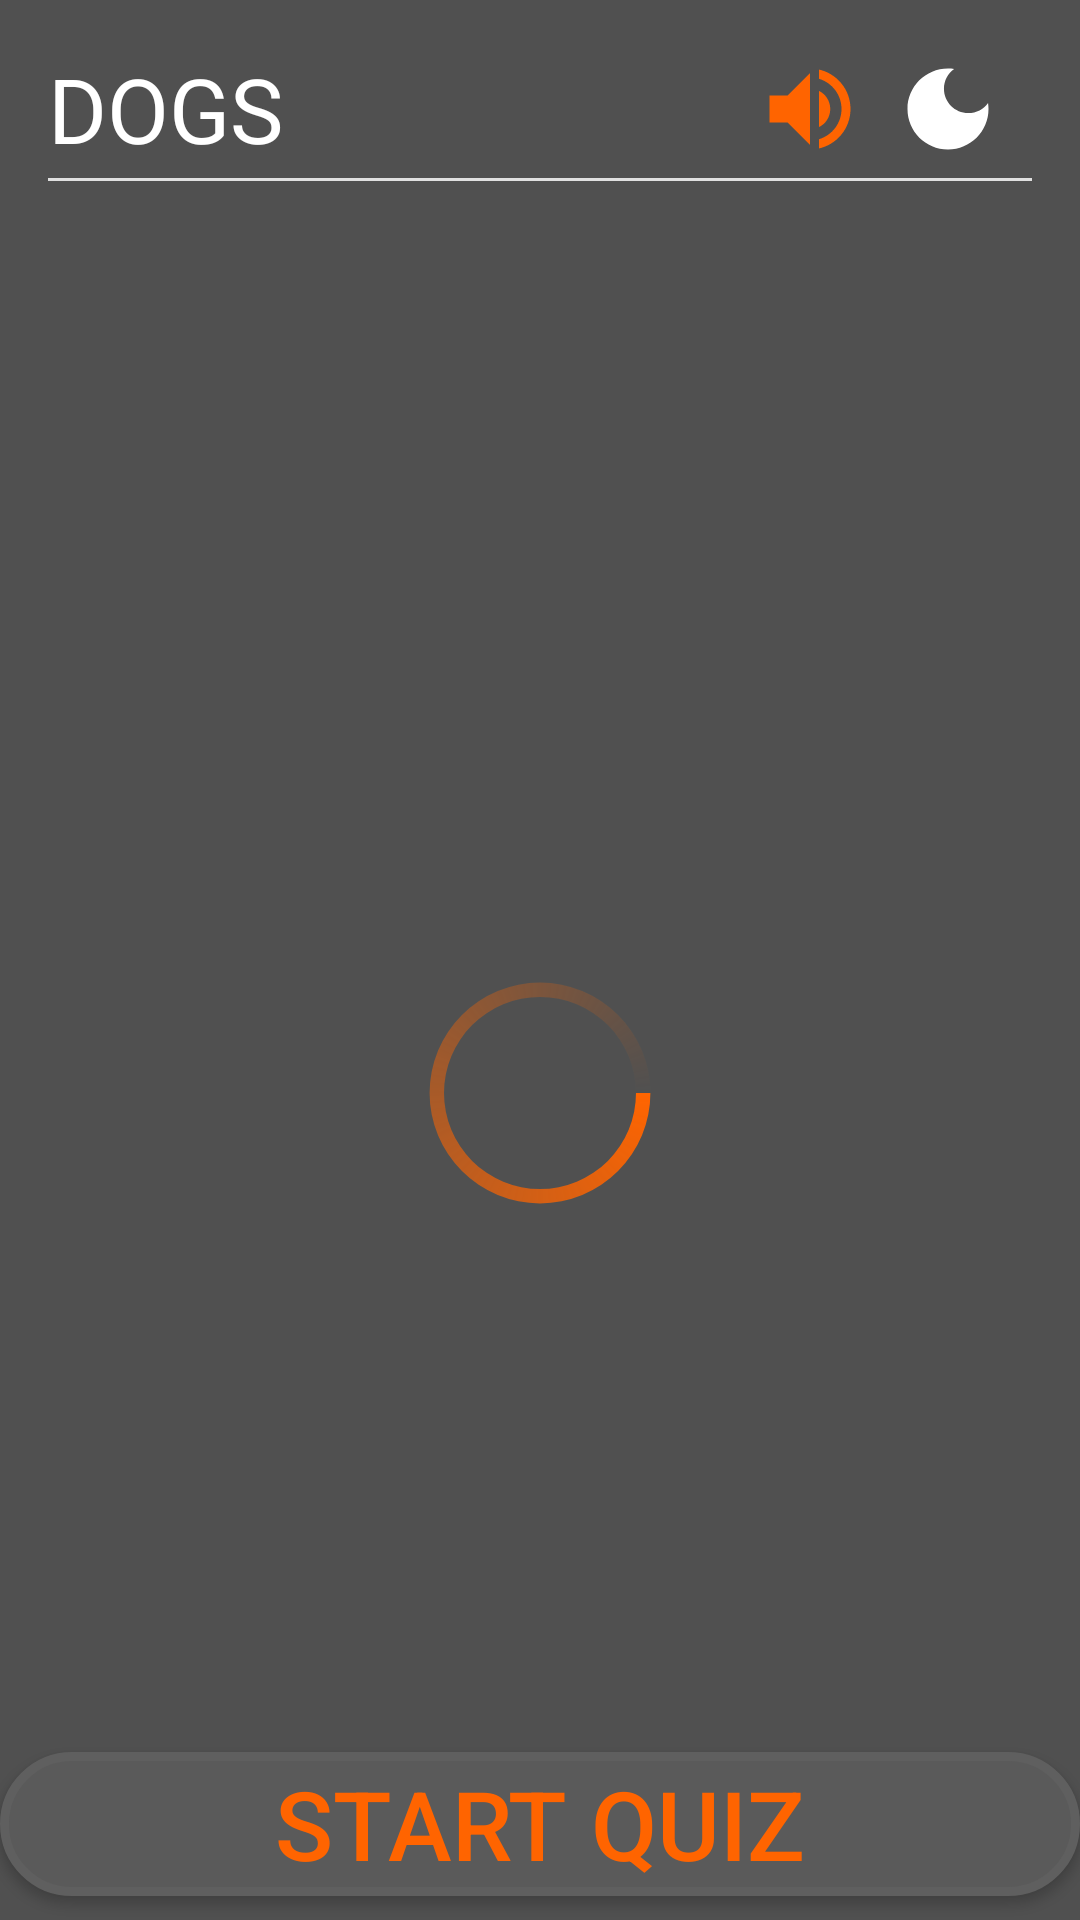

Icons on this 1080×1920 Android screen, each with its box as (x1, y1, x2, y2):
volume up: (769, 69, 851, 149)
